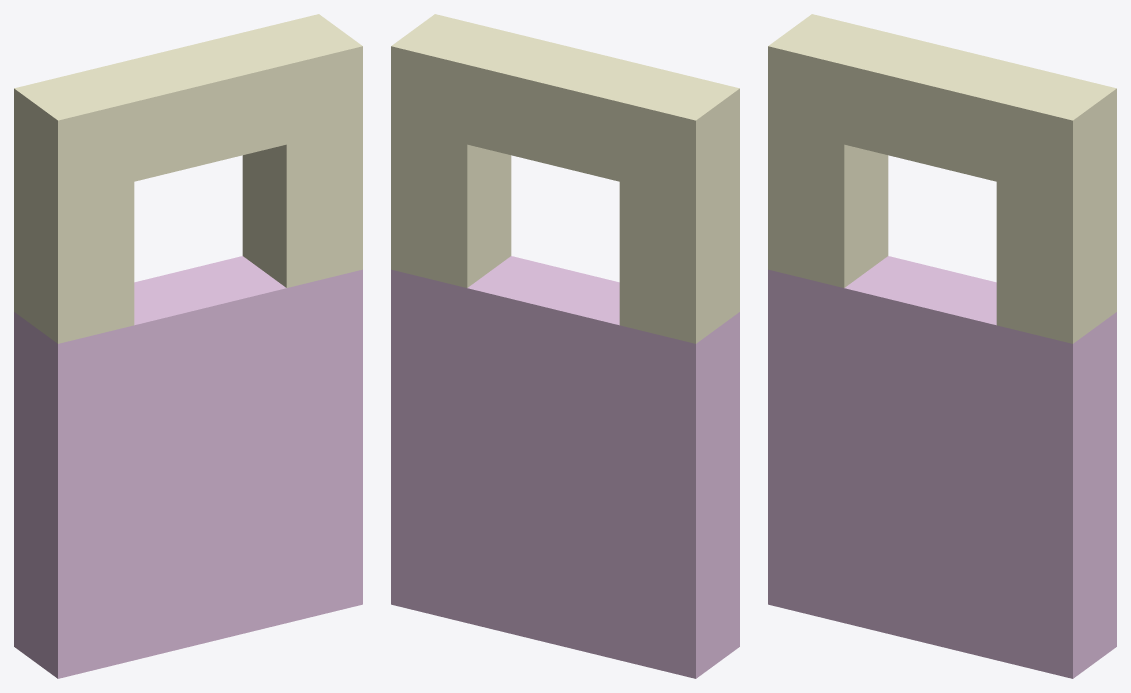
The model's file is Wall_A_Window_Small.glb.
3 views of the same model, side by side, from view 1: azimuth 30°, elevation 25°; view 2: azimuth 150°, elevation 25°; view 3: azimuth 330°, elevation 25° (orthographic).
Parts seen in each view (by area): view 1: Wall A Window Small; view 2: Wall A Window Small; view 3: Wall A Window Small.
Part boxes in pixels (bbox=[...]): Wall A Window Small: bbox=[14, 14, 362, 678]; Wall A Window Small: bbox=[391, 14, 739, 678]; Wall A Window Small: bbox=[768, 14, 1116, 678].
Bounding box in the file's own units: 2 × 3.5 × 0.5.
